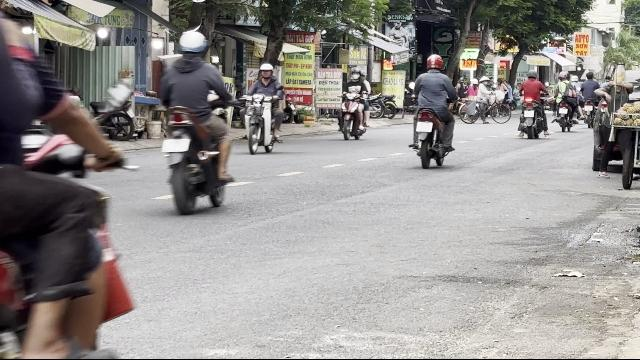helmet: (177, 29, 209, 59), (425, 53, 443, 71), (258, 63, 274, 81)
licenseplate: (162, 140, 190, 152), (416, 122, 432, 132)
motorcyclist: (156, 29, 236, 214), (407, 53, 457, 167), (241, 62, 285, 154)
